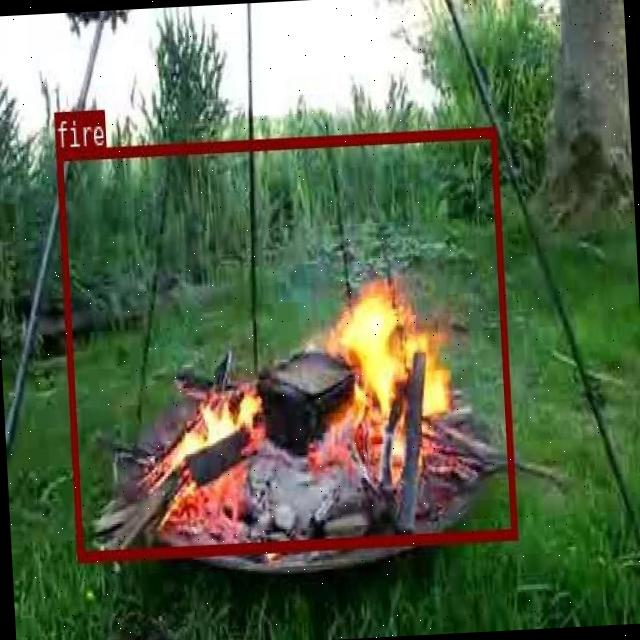fire: (54, 125, 516, 560)
